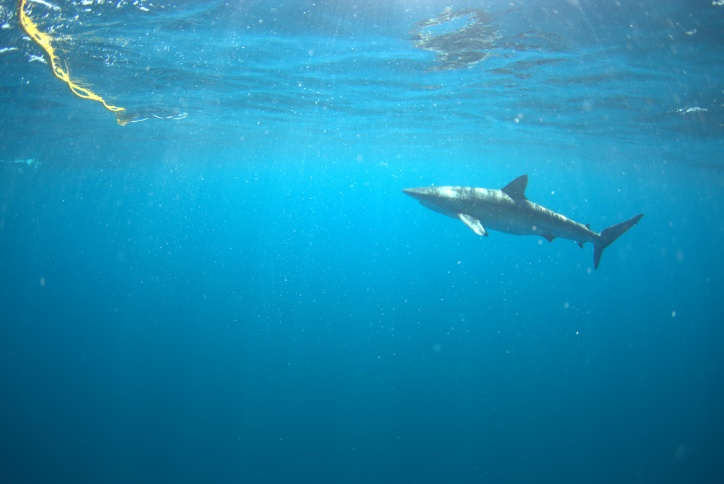Sedoso: (371, 162, 657, 286)
